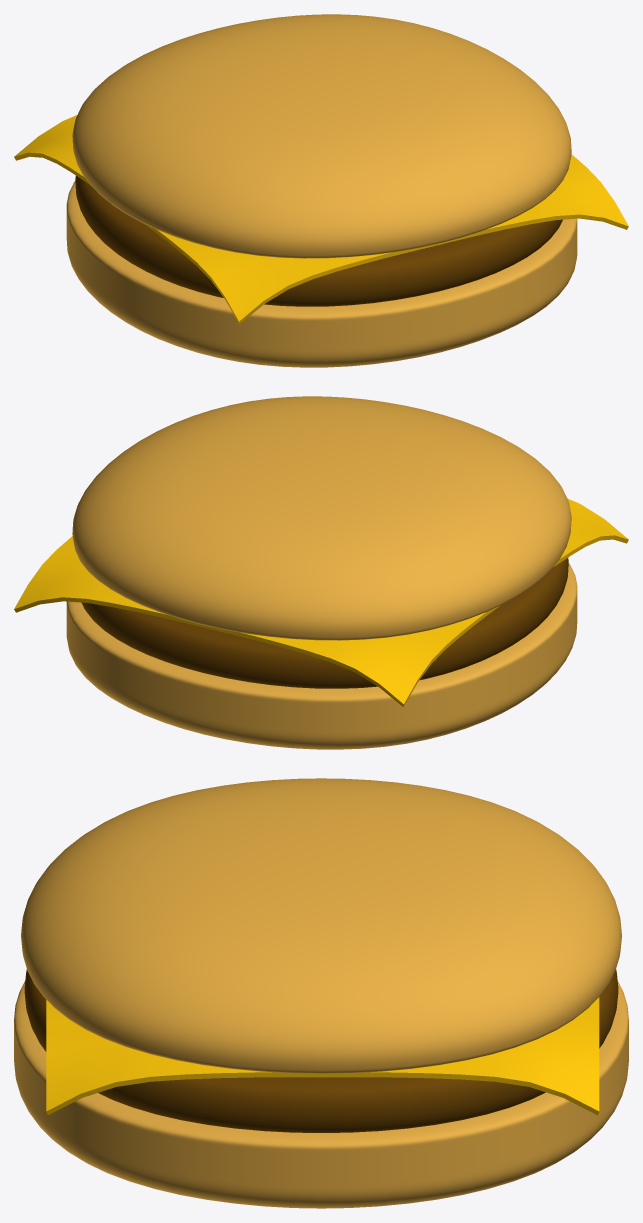
The model's file is hamburger.glb.
3 renders of one model, top to bottom at view 1: azimuth 30°, elevation 25°; view 2: azimuth 150°, elevation 25°; view 3: azimuth 270°, elevation 25°, orthographic. The views are drawn at different scales.
Parts seen in each view (by area): view 1: Cube.002, Cube, Cube.001, Plane; view 2: Cube.002, Cube, Cube.001, Plane; view 3: Cube.002, Cube, Cube.001, Plane.
Part boxes in pixels (x1,y1,x2,y2): Cube.002: (72, 14, 571, 258); Cube: (66, 181, 577, 367); Cube.001: (75, 176, 562, 306); Plane: (14, 115, 628, 324); Cube.002: (72, 396, 571, 640); Cube: (66, 563, 577, 749); Cube.001: (82, 558, 568, 688); Plane: (14, 498, 628, 706); Cube.002: (21, 778, 621, 1073); Cube: (14, 981, 628, 1208); Cube.001: (24, 969, 618, 1132); Plane: (46, 997, 599, 1115).
Bounding box in the file's own units: 9.17 × 4.3 × 9.17.
